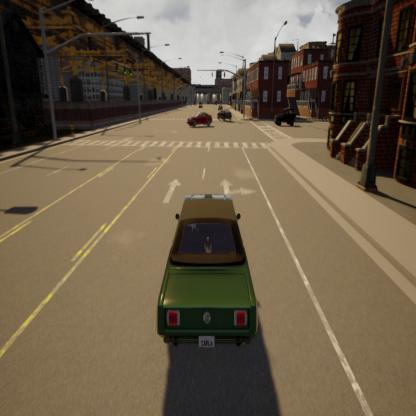Cars: (141, 190, 269, 362), (185, 110, 213, 133), (274, 106, 297, 129), (216, 108, 233, 124)
